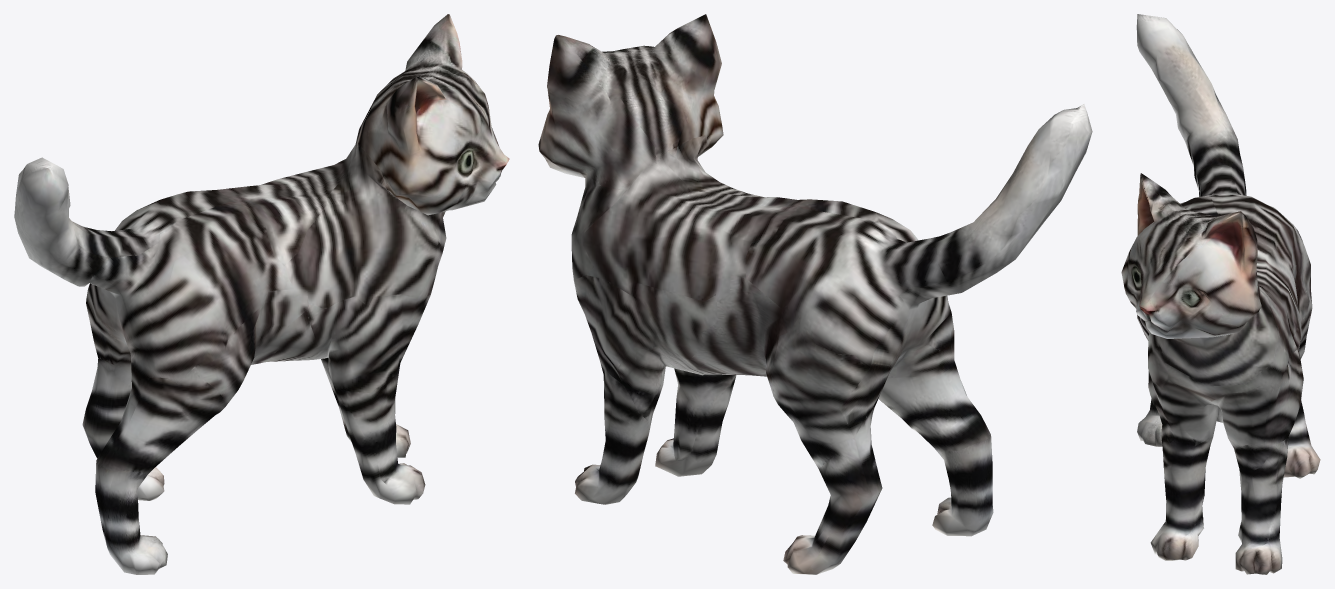
The model's file is NOTEPAW-lo.glb.
The picture shows the model from 3 angles, left to right: view 1: azimuth 30°, elevation 25°; view 2: azimuth 150°, elevation 25°; view 3: azimuth 270°, elevation 25°; orthographic projection. The views are drawn at different scales.
Parts seen in each view (by area): view 1: fit; view 2: fit; view 3: fit.
Boxes of the visible parts, left/top/right/bottom form: fit: left=14, top=14, right=509, bottom=574; fit: left=538, top=14, right=1092, bottom=574; fit: left=1121, top=14, right=1320, bottom=574.
Bounding box in the file's own units: 1.19 × 0.9986 × 0.4717.
Materials: 1 (1 with a texture image).
